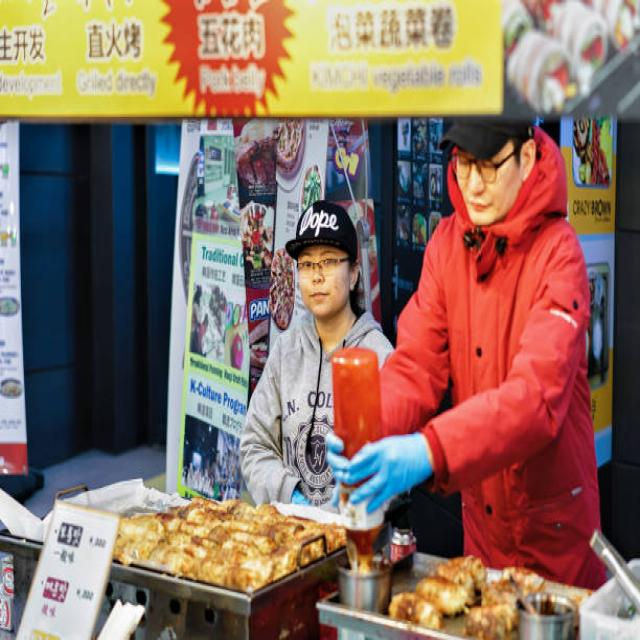Emperan: (0, 312, 618, 640)
